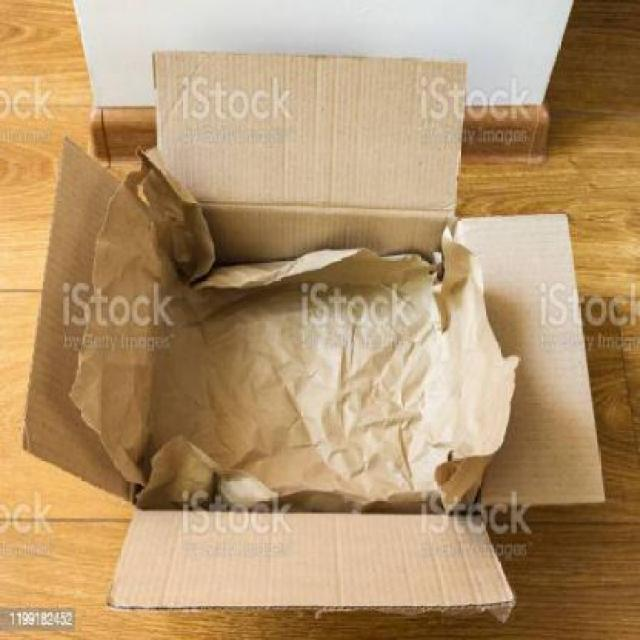box: (25, 55, 607, 622)
